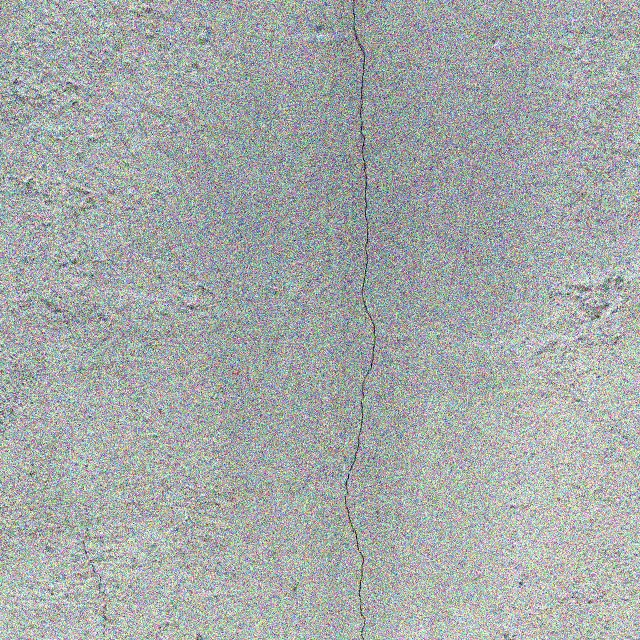SurfaceCrack: (298, 1, 421, 640)
